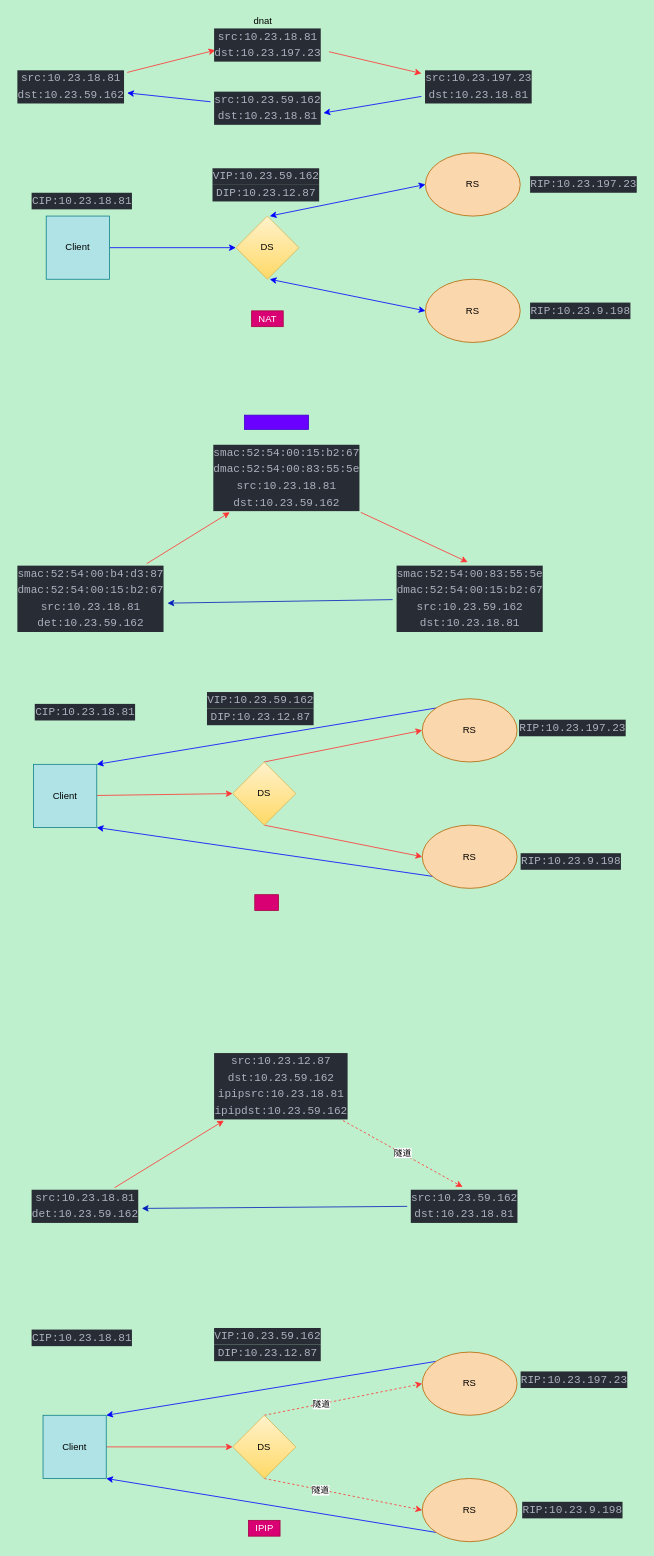
Image size: 654x1556. Some labels were removed from this diagram. Each missing label, with the centre of its shape:
"DR" goes at point (266, 902).
"修改目的mac" goes at point (276, 421).
